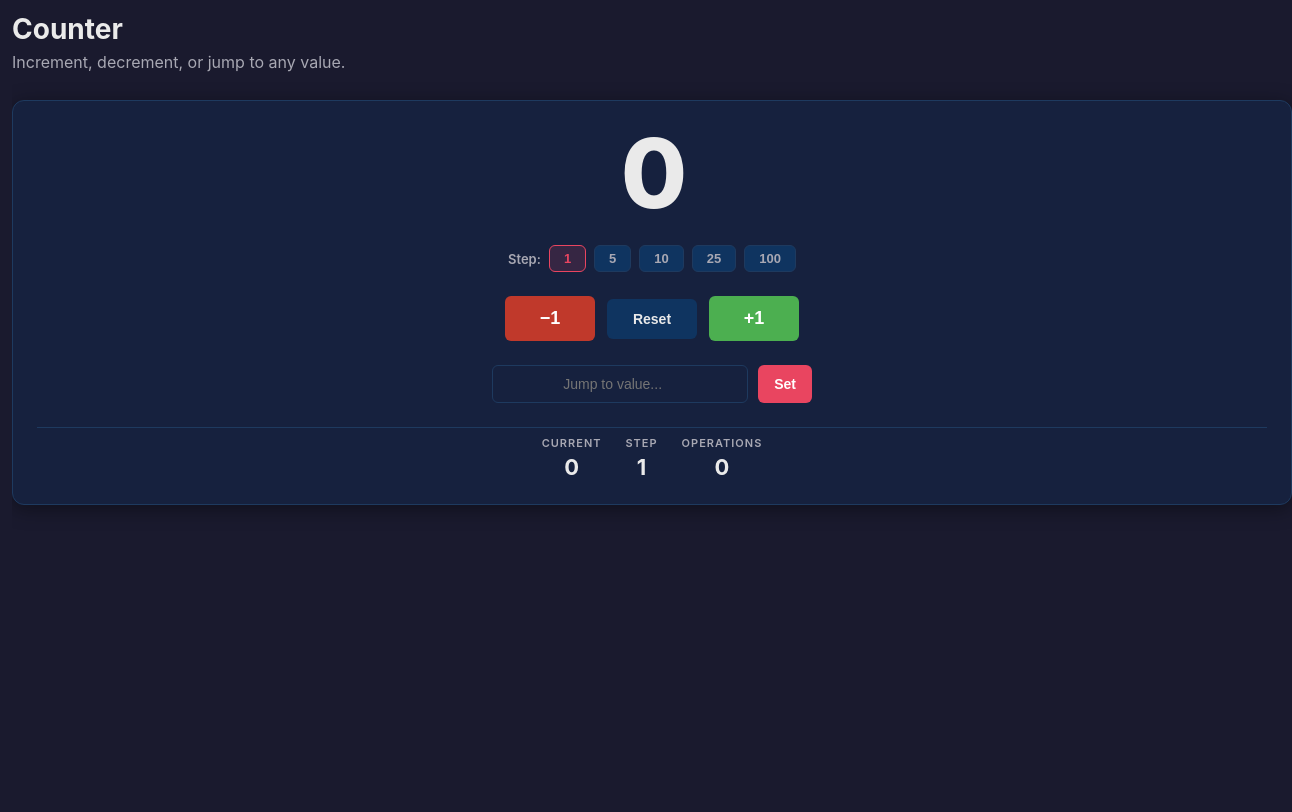
Test: resets counter to 0
The image size is (1292, 812).
Step 1. Click the button named "Increment by 1" → (754, 318), box [709, 296, 799, 341]
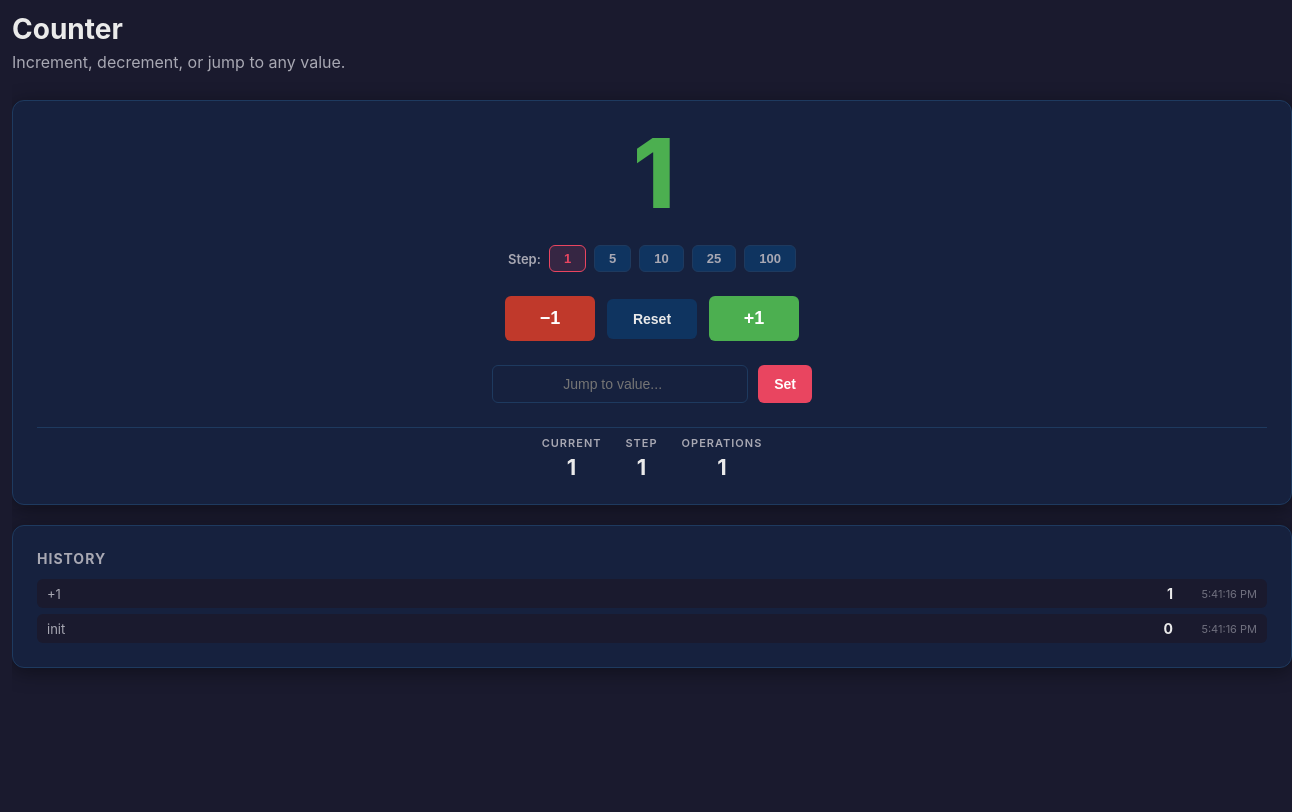
Step 2. Click the button named "Increment by 1" → (754, 318), box [709, 296, 799, 341]
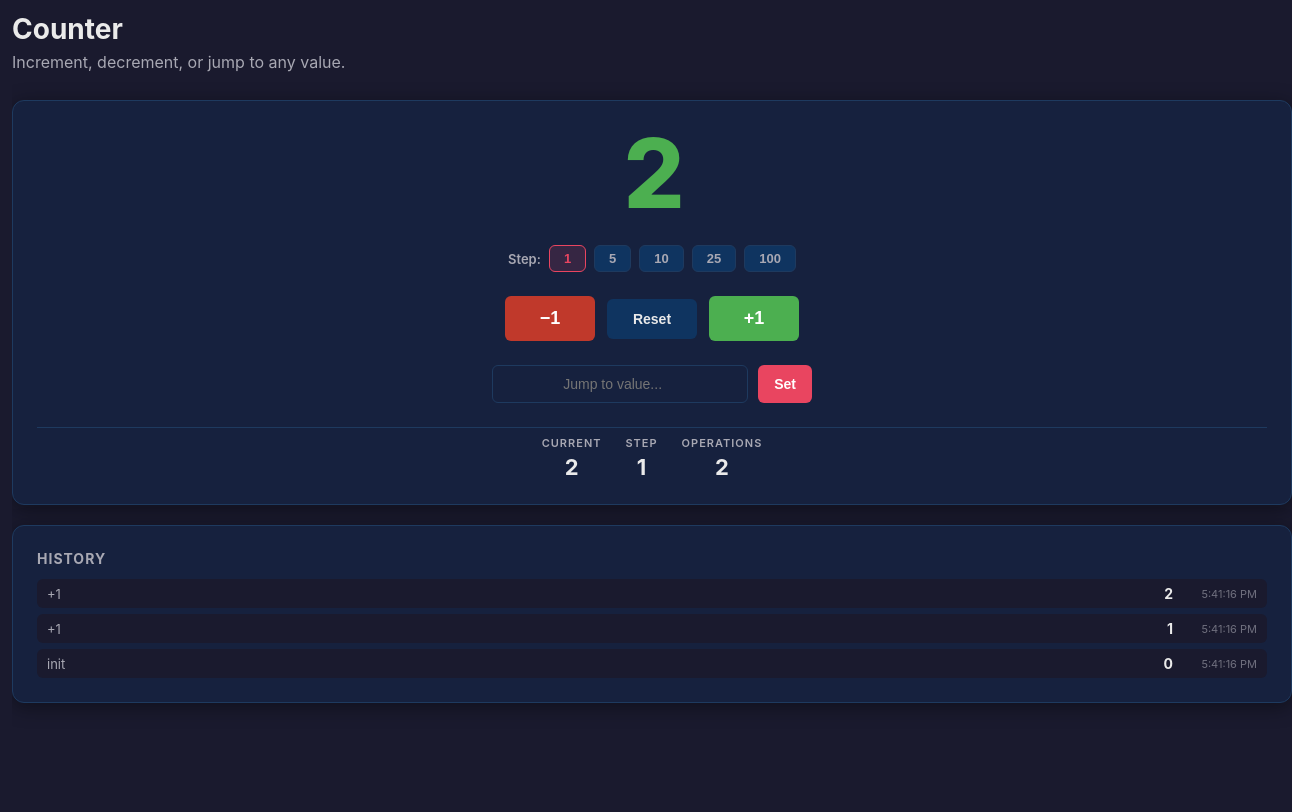
Step 3. Click the button with aria-label "Reset counter" → (652, 318), box [607, 298, 697, 338]
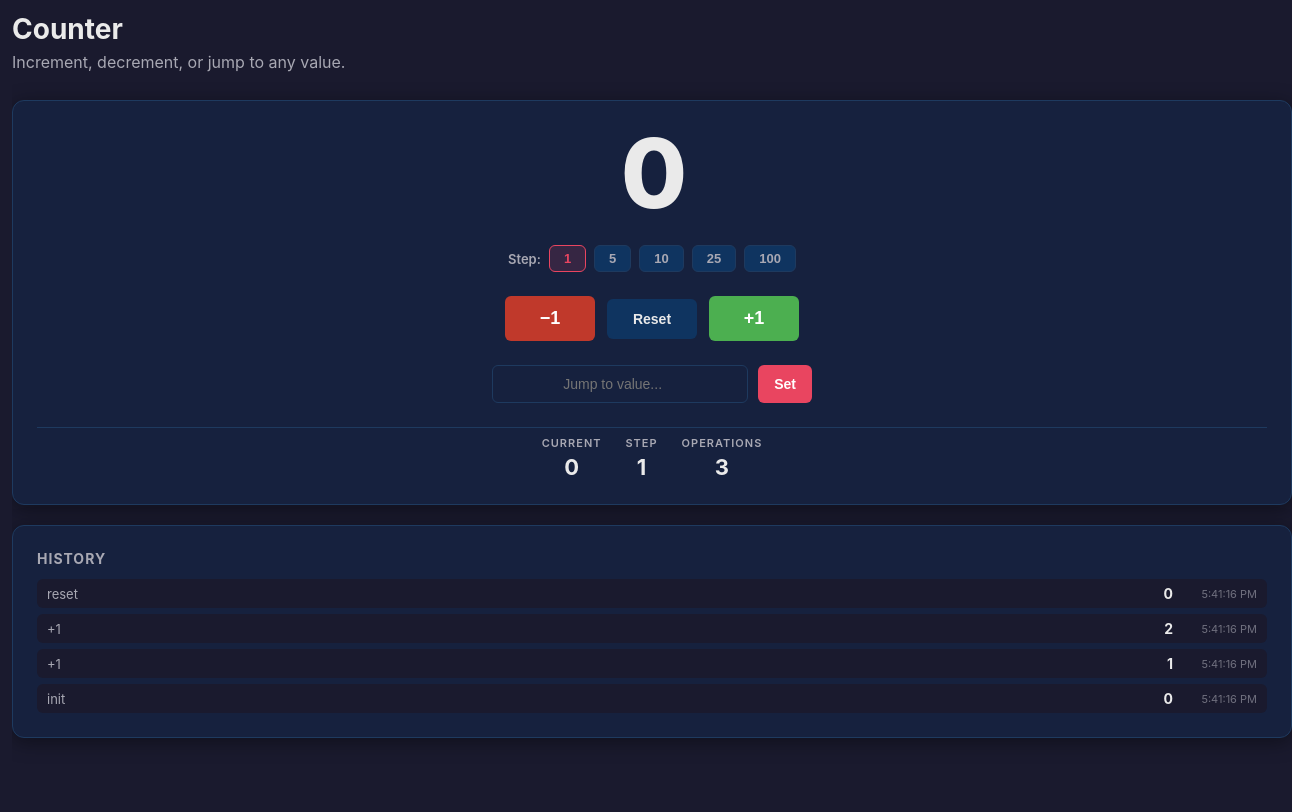
Now the text named "Counter value: 0" is shown, box [621, 115, 683, 231]
